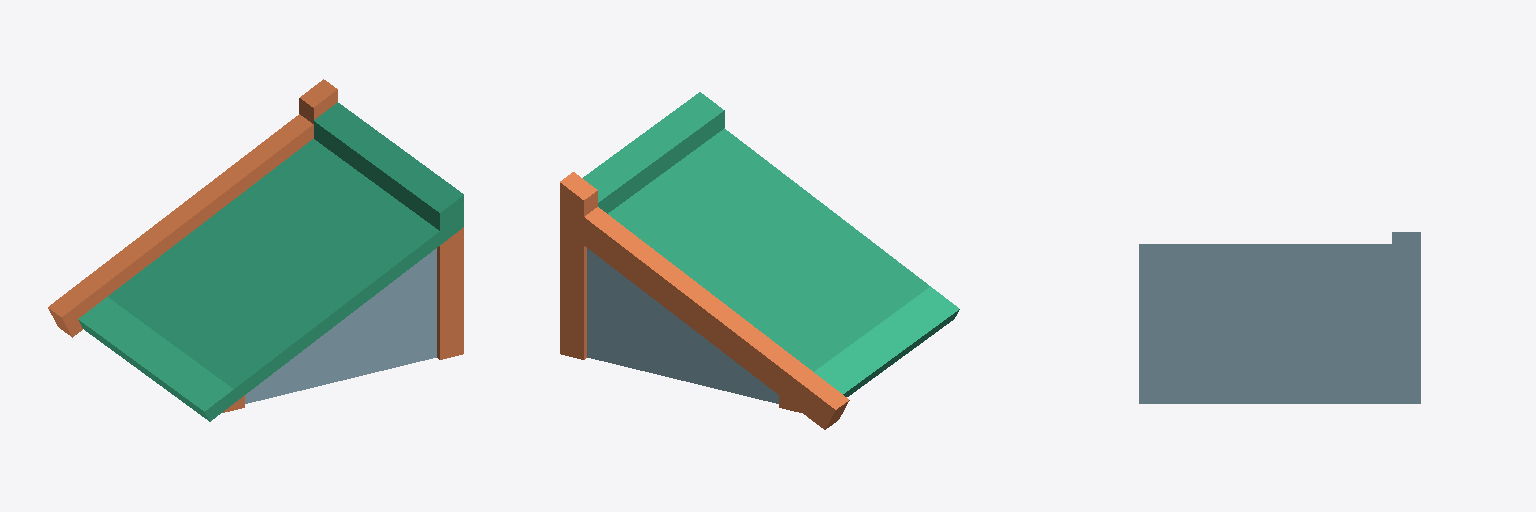
File: roofLeft.obj
3 views of the same model, side by side, from view 1: azimuth 30°, elevation 25°; view 2: azimuth 150°, elevation 25°; view 3: azimuth 270°, elevation 25° (orthographic).
Visible parts, largest first — view 1: roofLeft; view 2: roofLeft; view 3: roofLeft.
Part boxes in pixels (bbox=[...]): roofLeft: bbox=[48, 79, 463, 421]; roofLeft: bbox=[560, 92, 959, 429]; roofLeft: bbox=[1139, 232, 1420, 403].
Bounding box in the file's own units: 1.13 × 0.7206 × 1.